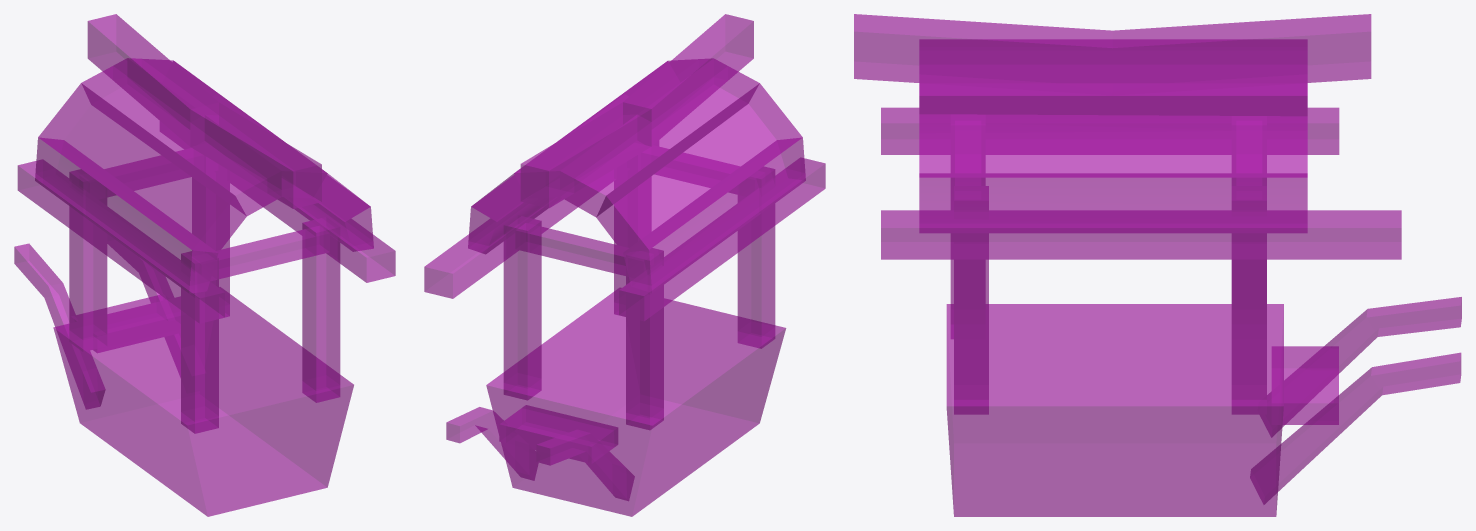
Rendered from SM_Veh_Cart_04_Collision.fbx.
The picture shows the model from 3 angles, left to right: view 1: azimuth 30°, elevation 25°; view 2: azimuth 150°, elevation 25°; view 3: azimuth 270°, elevation 25°; orthographic projection. The views are drawn at different scales.
Visible parts, largest first — view 1: SM_Veh_Cart_04_Collision; view 2: SM_Veh_Cart_04_Collision; view 3: SM_Veh_Cart_04_Collision.
Boxes of the visible parts, x1=… form: SM_Veh_Cart_04_Collision: x1=14, y1=14, x2=395, y2=516; SM_Veh_Cart_04_Collision: x1=424, y1=14, x2=825, y2=516; SM_Veh_Cart_04_Collision: x1=854, y1=14, x2=1461, y2=516.
Bounding box in the file's own units: 154 × 274 × 330.
